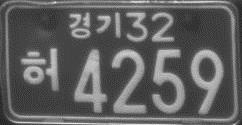2: (111, 48, 149, 115), (149, 11, 176, 43)
3: (123, 11, 149, 44)
4: (72, 47, 108, 116)
5: (150, 48, 186, 114)
9: (188, 47, 225, 116)
경기_O: (67, 11, 123, 41)
허: (20, 45, 60, 94)
